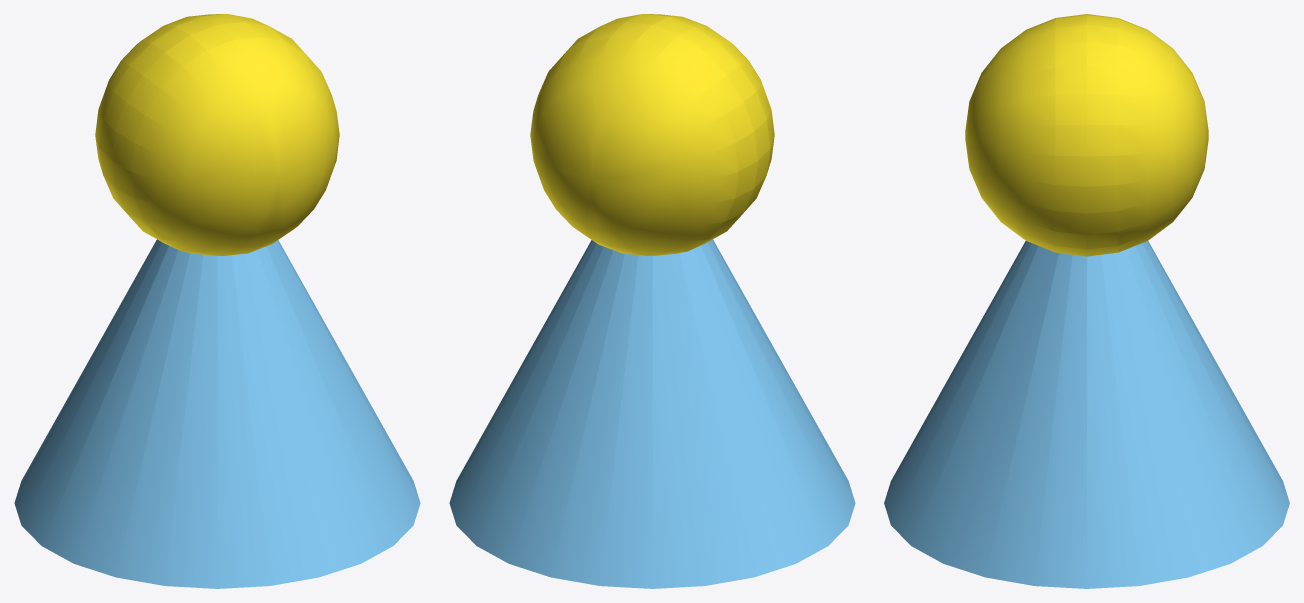
Rendered from figure_1.fbx.
The picture shows the model from 3 angles, left to right: view 1: azimuth 30°, elevation 25°; view 2: azimuth 150°, elevation 25°; view 3: azimuth 270°, elevation 25°; orthographic projection.
Parts seen in each view (by area): view 1: cylinder_cone_8, sphere_full_9; view 2: cylinder_cone_8, sphere_full_9; view 3: cylinder_cone_8, sphere_full_9.
Boxes of the visible parts, x1,y1,x2,y2 form: cylinder_cone_8: (14, 239, 420, 588); sphere_full_9: (95, 14, 339, 255); cylinder_cone_8: (449, 239, 855, 588); sphere_full_9: (530, 14, 774, 255); cylinder_cone_8: (884, 241, 1289, 588); sphere_full_9: (965, 14, 1208, 256).
Size of the model in its own units: 10 by 13 by 10.
